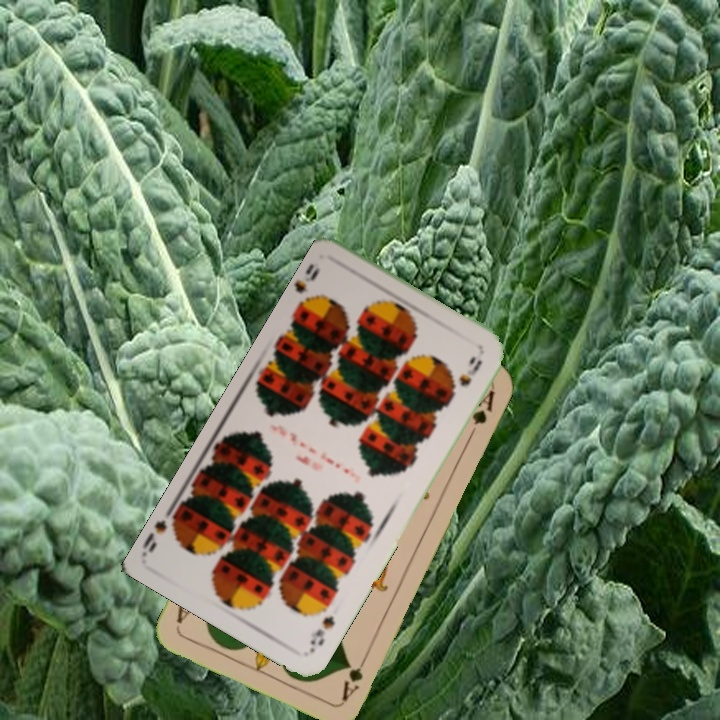GA: (338, 649, 371, 704)
S9: (294, 260, 322, 314), (306, 611, 338, 655)
